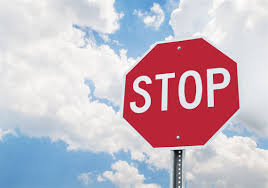SS: (122, 35, 243, 149)
